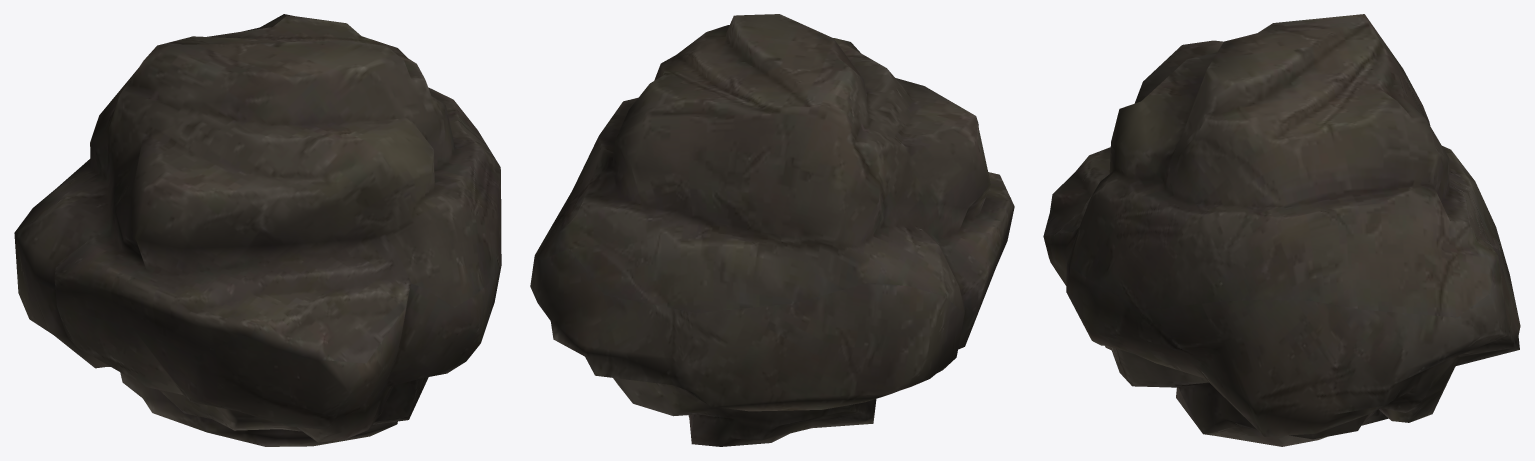
3 views of the same model, side by side, from view 1: azimuth 30°, elevation 25°; view 2: azimuth 150°, elevation 25°; view 3: azimuth 270°, elevation 25° (orthographic). The views are drawn at different scales.
Bounding box in the file's own units: 5.37 × 4.64 × 5.5.
Materials: 1 (1 with a texture image).
